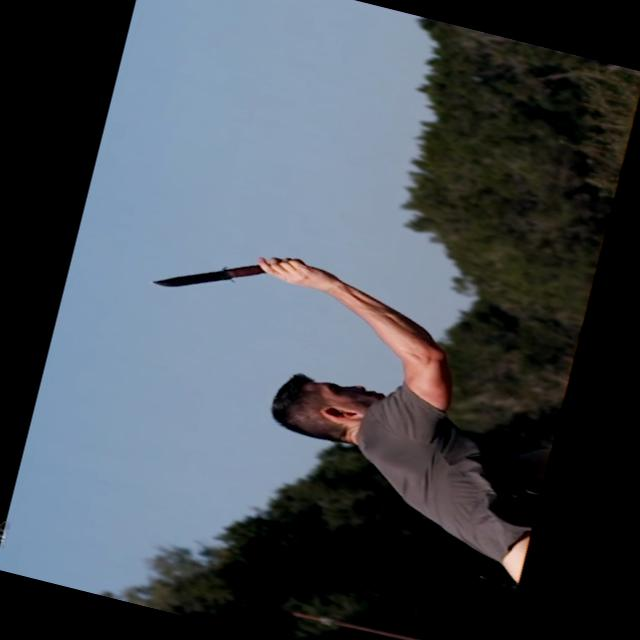knife: (140, 220, 316, 328)
